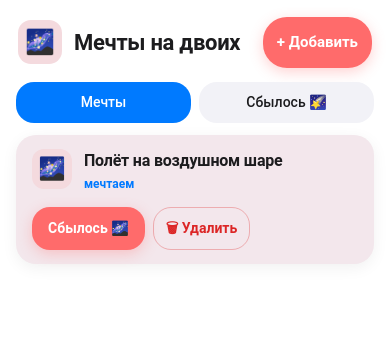
Test: Bucket — fulfilled-dreams gallery (Bundle D Task 1) › fulfilled tab empty state shows the warm empty copy when no done items
Click the button "Сбылось 🌠" at (286, 102), box [199,82,374,122]
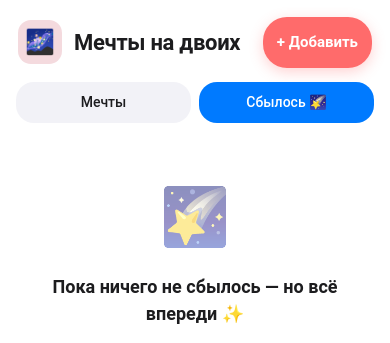
Expected: the text "Пока ничего не сбылось — но всё впереди ✨" is shown, [36,272,354,326]
Expected: the text "Полёт на воздушном шаре" is gone
